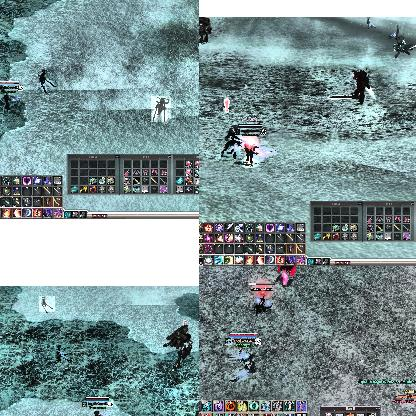caliana: (151, 96, 171, 122), (38, 69, 58, 93), (251, 290, 271, 314), (221, 133, 239, 159), (56, 344, 72, 362), (39, 296, 55, 312), (366, 16, 374, 28)
